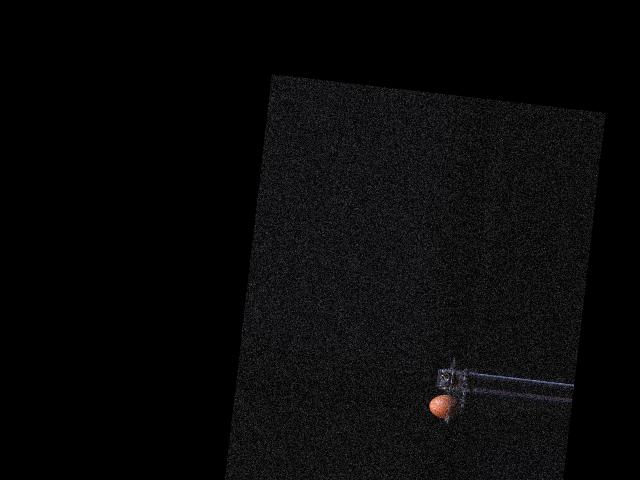egg: (428, 393, 462, 421)
